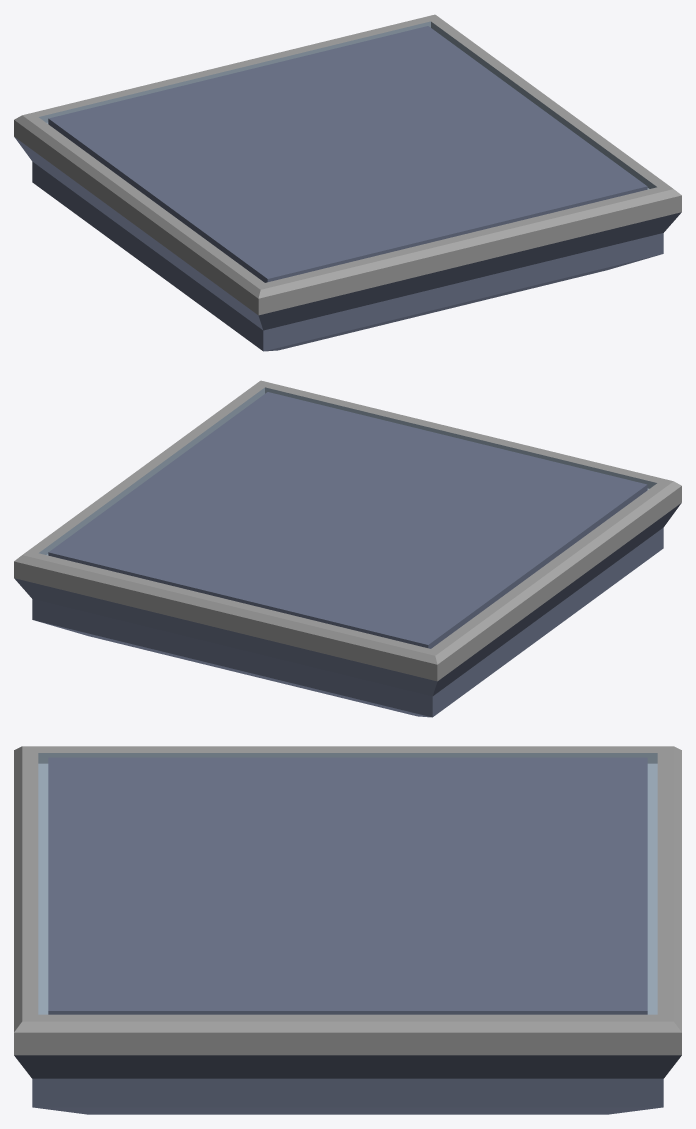
The picture shows the model from 3 angles, top to bottom: view 1: azimuth 30°, elevation 25°; view 2: azimuth 150°, elevation 25°; view 3: azimuth 270°, elevation 25°; orthographic projection. The views are drawn at different scales.
Visible parts, largest first — view 1: Cube.753; view 2: Cube.753; view 3: Cube.753.
Boxes of the visible parts, <box> form: Cube.753: <box>14,14,681,351</box>; Cube.753: <box>14,380,681,717</box>; Cube.753: <box>14,746,681,1114</box>.
Size of the model in its own units: 324 by 64.83 by 324.
